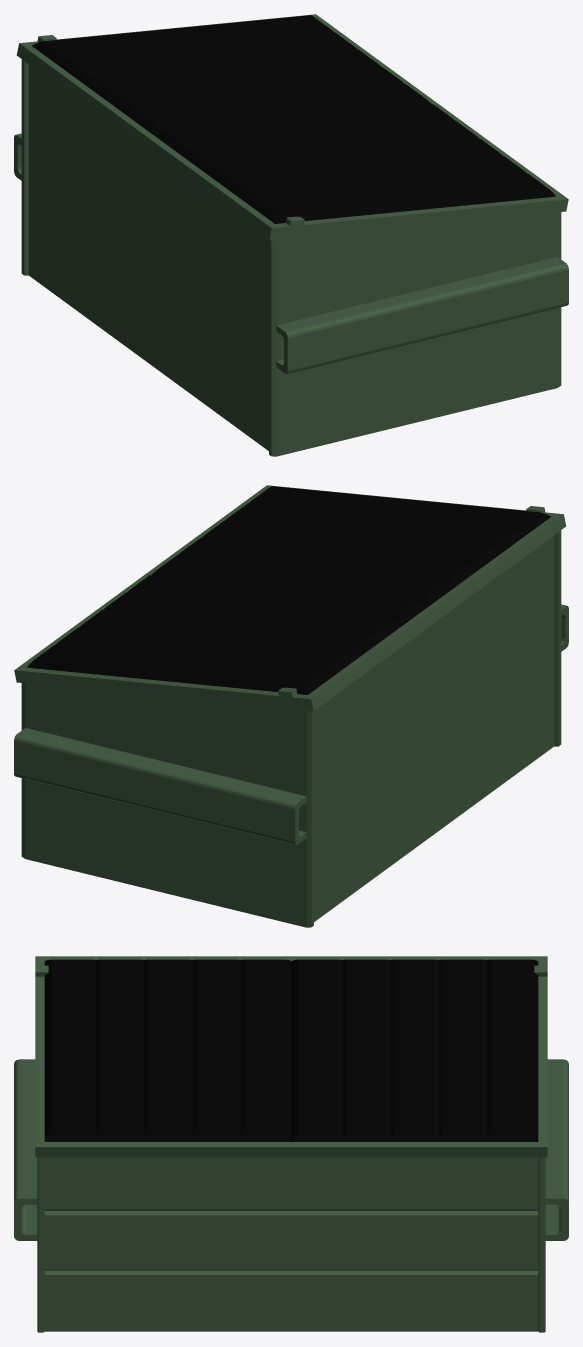
Rendered from dumpster(1).fbx.
The picture shows the model from 3 angles, top to bottom: view 1: azimuth 30°, elevation 25°; view 2: azimuth 150°, elevation 25°; view 3: azimuth 270°, elevation 25°; orthographic projection.
Parts seen in each view (by area): view 1: Cube; view 2: Cube; view 3: Cube.
Part boxes in pixels (x1,y1,x2,y2): Cube: [14, 14, 568, 456]; Cube: [14, 485, 568, 927]; Cube: [14, 956, 568, 1332].
Size of the model in its own units: 426 by 319 by 675.
